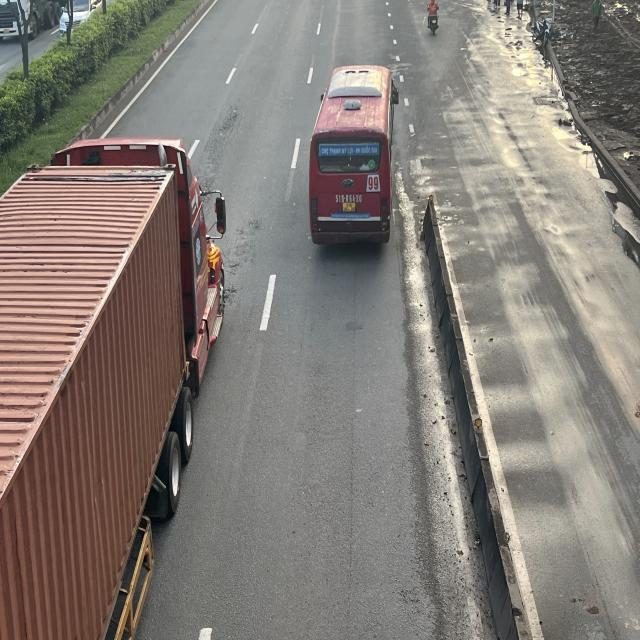coach: (310, 65, 400, 247)
container: (4, 133, 233, 640)
